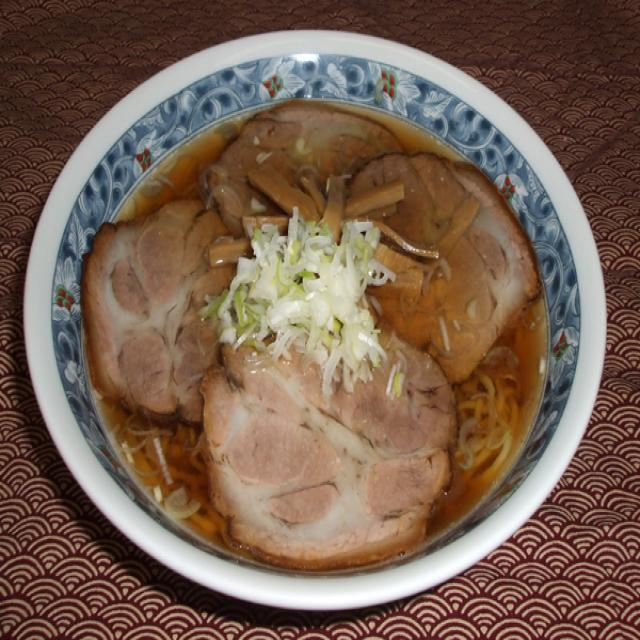面条主食: (77, 100, 551, 576)
